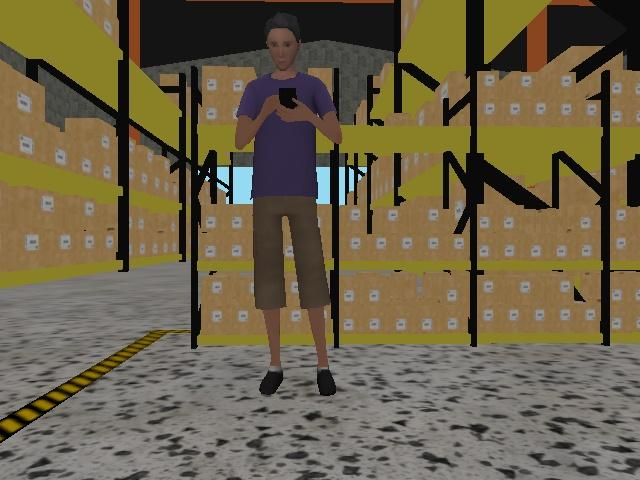person: (232, 9, 345, 401)
